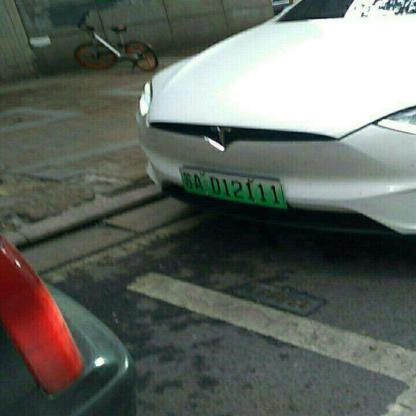lp: (180, 168, 284, 209)
